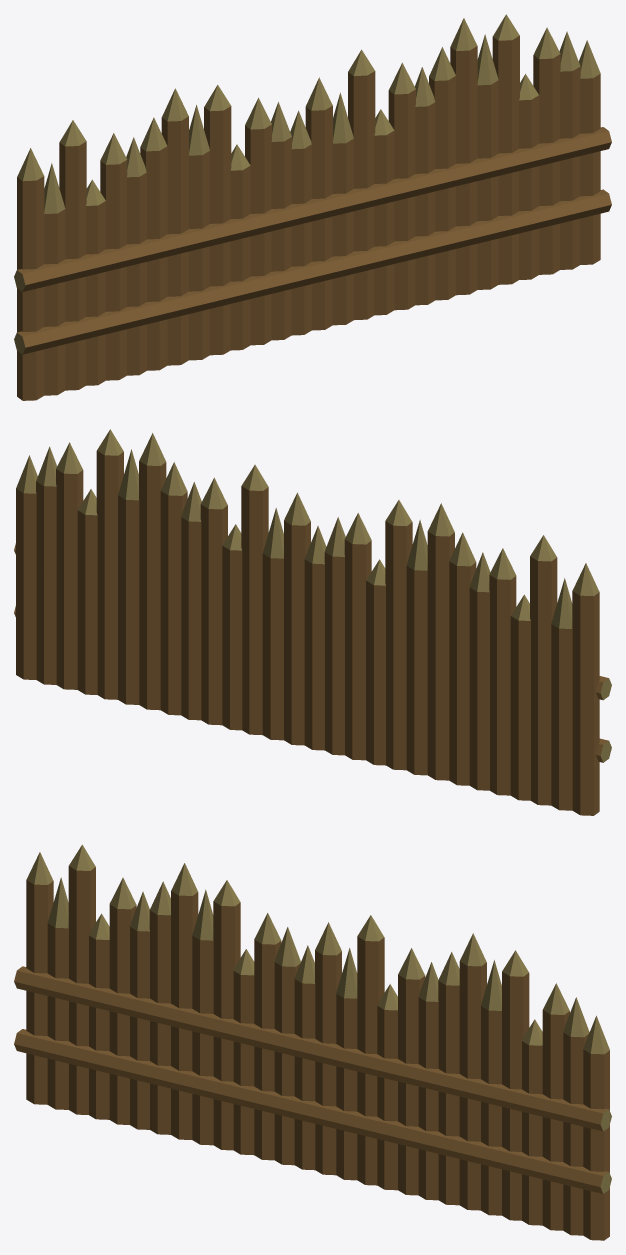
Rendered from Wood_Wall_01_root.fbx.
3 renders of one model, top to bottom at view 1: azimuth 30°, elevation 25°; view 2: azimuth 150°, elevation 25°; view 3: azimuth 330°, elevation 25°, orthographic.
Visible parts, largest first — view 1: Wood_Wall_01_sh_6, Wood_Wall_01_sh_13, Wood_Wall_01_sh_29, Wood_Wall_01_sh_7, Wood_Wall_01_sh_11, Wood_Wall_01_sh_3, Wood_Wall_01_sh_27, Wood_Wall_01_sh_5, Wood_Wall_01_sh_19, Wood_Wall_01_sh_10, Wood_Wall_01_sh_16, Wood_Wall_01_sh_23 (+16 smaller); view 2: Wood_Wall_01_sh_6, Wood_Wall_01_sh_13, Wood_Wall_01_sh_29, Wood_Wall_01_sh_5, Wood_Wall_01_sh_11, Wood_Wall_01_sh_7, Wood_Wall_01_sh_3, Wood_Wall_01_sh_19, Wood_Wall_01_sh_27, Wood_Wall_01_sh_16, Wood_Wall_01_sh_17, Wood_Wall_01_sh_10 (+15 smaller); view 3: Wood_Wall_01_sh_6, Wood_Wall_01_sh_13, Wood_Wall_01_sh_29, Wood_Wall_01_sh_11, Wood_Wall_01_sh_7, Wood_Wall_01_sh_3, Wood_Wall_01_sh_27, Wood_Wall_01_sh_5, Wood_Wall_01_sh_19, Wood_Wall_01_sh_10, Wood_Wall_01_sh_16, Wood_Wall_01_sh_23 (+16 smaller).
Part boxes in pixels (x1=…): Wood_Wall_01_sh_6: x1=271, y1=72, x2=421, y2=325; Wood_Wall_01_sh_13: x1=340, y1=167, x2=528, y2=324; Wood_Wall_01_sh_29: x1=14, y1=242, x2=96, y2=400; Wood_Wall_01_sh_7: x1=412, y1=83, x2=533, y2=173; Wood_Wall_01_sh_11: x1=512, y1=160, x2=597, y2=279; Wood_Wall_01_sh_3: x1=157, y1=284, x2=334, y2=370; Wood_Wall_01_sh_27: x1=186, y1=138, x2=289, y2=227; Wood_Wall_01_sh_5: x1=183, y1=221, x2=301, y2=293; Wood_Wall_01_sh_19: x1=61, y1=284, x2=162, y2=392; Wood_Wall_01_sh_10: x1=112, y1=141, x2=187, y2=239; Wood_Wall_01_sh_16: x1=503, y1=92, x2=581, y2=185; Wood_Wall_01_sh_23: x1=348, y1=47, x2=461, y2=132; Wood_Wall_01_sh_6: x1=196, y1=488, x2=347, y2=740; Wood_Wall_01_sh_13: x1=84, y1=579, x2=277, y2=739; Wood_Wall_01_sh_29: x1=527, y1=658, x2=611, y2=815; Wood_Wall_01_sh_5: x1=314, y1=634, x2=433, y2=714; Wood_Wall_01_sh_11: x1=18, y1=581, x2=101, y2=693; Wood_Wall_01_sh_7: x1=84, y1=498, x2=204, y2=581; Wood_Wall_01_sh_3: x1=283, y1=702, x2=452, y2=782; Wood_Wall_01_sh_19: x1=454, y1=699, x2=556, y2=808; Wood_Wall_01_sh_27: x1=328, y1=552, x2=430, y2=636; Wood_Wall_01_sh_16: x1=35, y1=504, x2=121, y2=604; Wood_Wall_01_sh_17: x1=400, y1=589, x2=497, y2=666; Wood_Wall_01_sh_10: x1=429, y1=557, x2=503, y2=651; Wood_Wall_01_sh_6: x1=265, y1=928, x2=421, y2=1177; Wood_Wall_01_sh_13: x1=340, y1=1060, x2=527, y2=1223; Wood_Wall_01_sh_29: x1=14, y1=951, x2=91, y2=1109; Wood_Wall_01_sh_11: x1=510, y1=1121, x2=598, y2=1240; Wood_Wall_01_sh_7: x1=413, y1=995, x2=533, y2=1101; Wood_Wall_01_sh_3: x1=156, y1=1088, x2=336, y2=1175; Wood_Wall_01_sh_27: x1=188, y1=925, x2=290, y2=1044; Wood_Wall_01_sh_5: x1=183, y1=1012, x2=292, y2=1115; Wood_Wall_01_sh_19: x1=62, y1=1039, x2=156, y2=1129; Wood_Wall_01_sh_10: x1=113, y1=900, x2=190, y2=985; Wood_Wall_01_sh_16: x1=494, y1=1047, x2=583, y2=1126; Wood_Wall_01_sh_23: x1=357, y1=915, x2=462, y2=1020.
Size of the model in its own units: 20085 by 8930 by 955.
